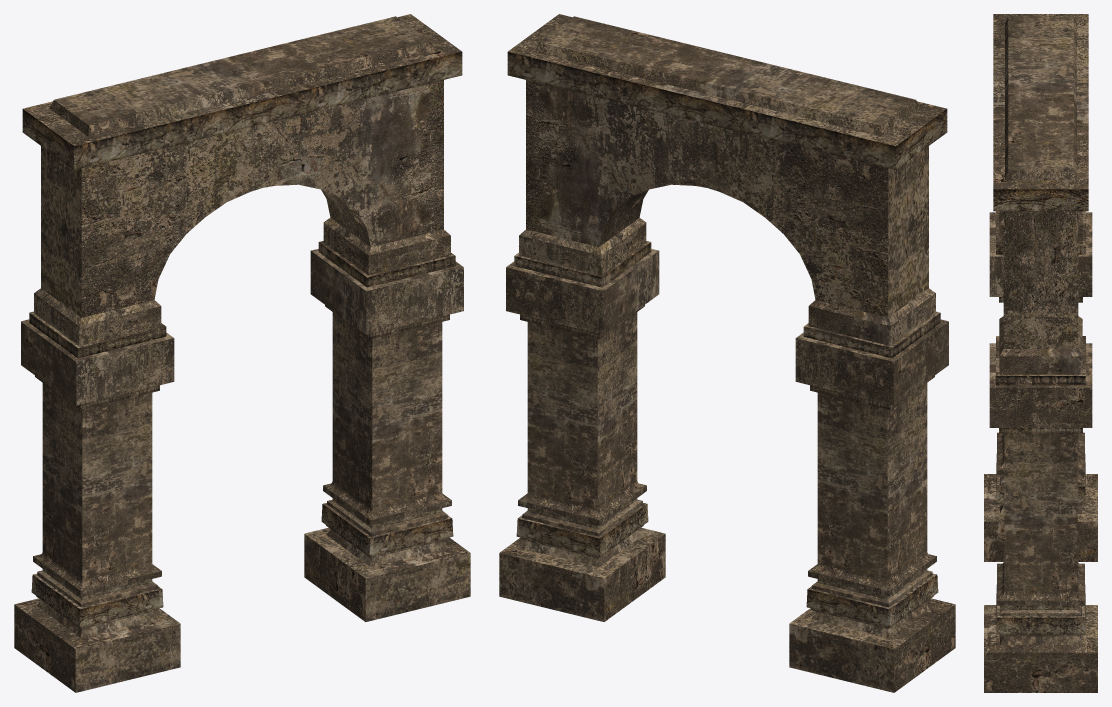
Rendered from materials_5_gate_17.fbx.
3 views of the same model, side by side, from view 1: azimuth 30°, elevation 25°; view 2: azimuth 150°, elevation 25°; view 3: azimuth 270°, elevation 25° (orthographic). The views are drawn at different scales.
Visible parts, largest first — view 1: materials_5_gate_17; view 2: materials_5_gate_17; view 3: materials_5_gate_17.
Part boxes in pixels (<box>): materials_5_gate_17: <box>14,14,470,692</box>; materials_5_gate_17: <box>499,14,955,692</box>; materials_5_gate_17: <box>984,14,1097,692</box>.
Bounding box in the file's own units: 233 × 311 × 62.81.
